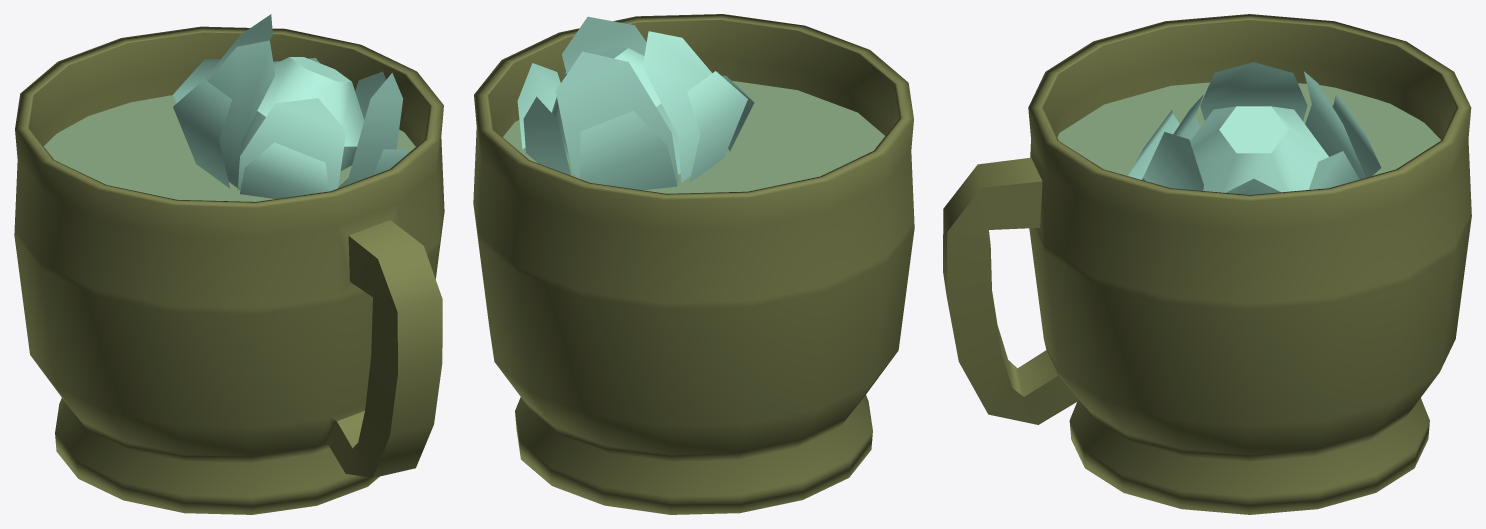
The model's file is drink8_bitter.fbx.
The picture shows the model from 3 angles, left to right: view 1: azimuth 30°, elevation 25°; view 2: azimuth 150°, elevation 25°; view 3: azimuth 270°, elevation 25°; orthographic projection. The views are drawn at different scales.
Visible parts, largest first — view 1: nurbsToPoly1, cabbage, pDisc1; view 2: nurbsToPoly1, cabbage, pDisc1; view 3: nurbsToPoly1, cabbage, pDisc1.
Part boxes in pixels (x1,y1,x2,y2): nurbsToPoly1: (14, 26, 444, 514); cabbage: (173, 14, 407, 198); pDisc1: (44, 95, 415, 201); nurbsToPoly1: (473, 14, 914, 514); cabbage: (517, 16, 754, 190); pDisc1: (503, 81, 884, 193); nurbsToPoly1: (943, 14, 1471, 514); cabbage: (1128, 62, 1381, 194); pDisc1: (1057, 82, 1440, 175).
Size of the model in its own units: 30.65 by 30.33 by 36.48.
